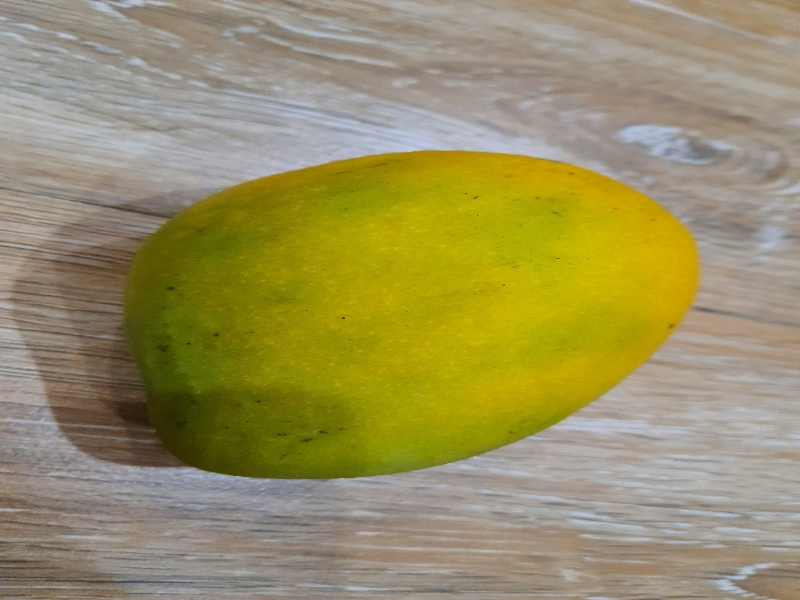fruit: (125, 150, 700, 479)
